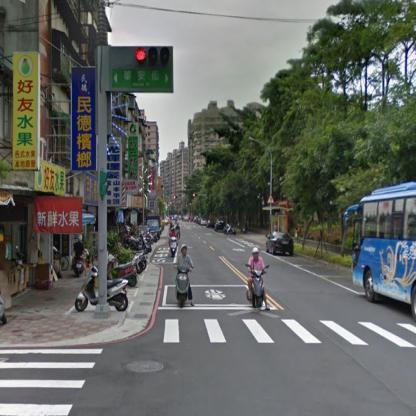Red Light: (135, 47, 173, 64)
